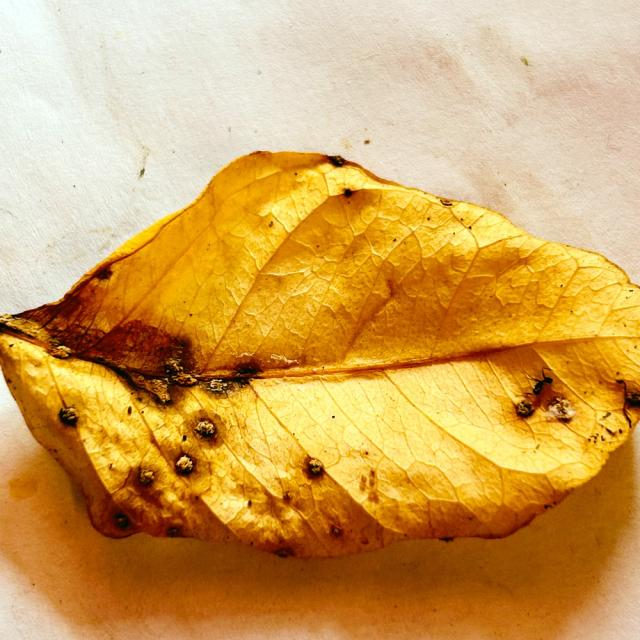DryLeaf_Lemon: (0, 152, 639, 557)
